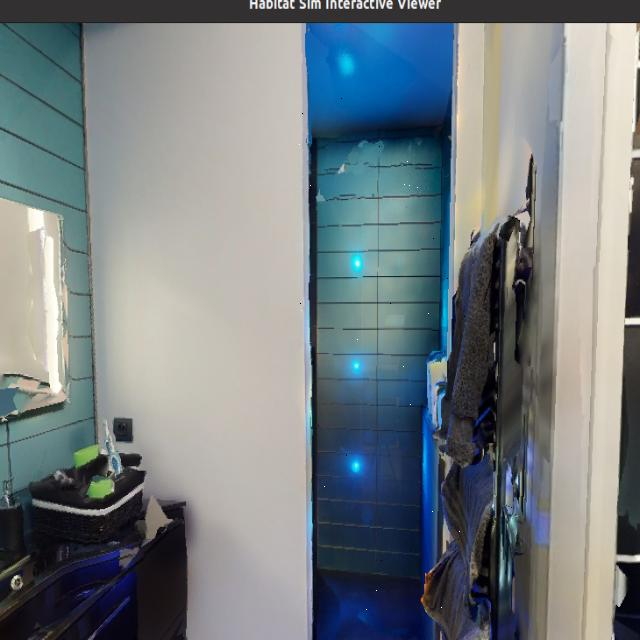door-frame: (293, 51, 466, 640)
